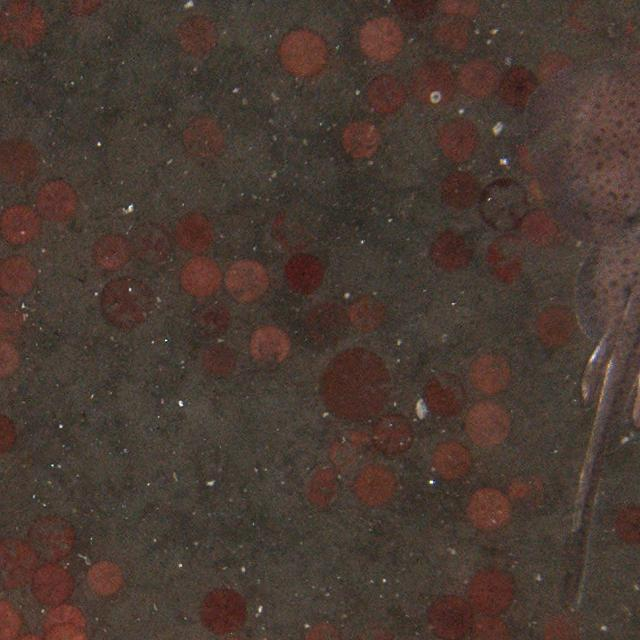skate: (520, 54, 640, 614)
